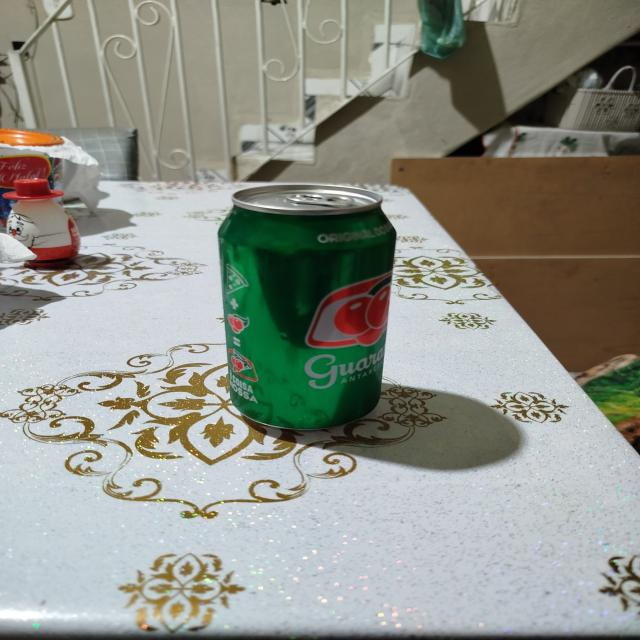Guarana: (219, 189, 397, 406)
